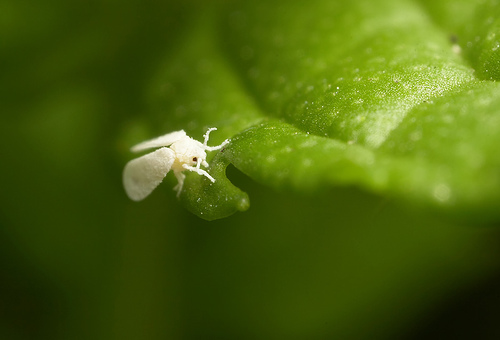whitefly: (120, 125, 231, 203)
